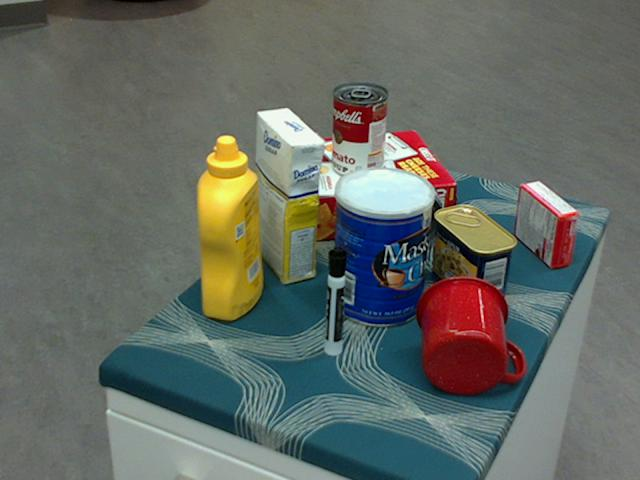cracker_box: (262, 129, 456, 247)
gelatin_box: (515, 181, 580, 268)
large_marker: (324, 246, 345, 357)
master_chef_can: (333, 166, 435, 327)
mug: (416, 274, 524, 394)
mustard_bottle: (196, 136, 264, 321)
potted_meat_can: (432, 205, 518, 312)
sugar_box: (254, 108, 322, 286)
tomato_soup_can: (333, 83, 388, 180)
tuna_fish_can: (371, 175, 444, 248)
